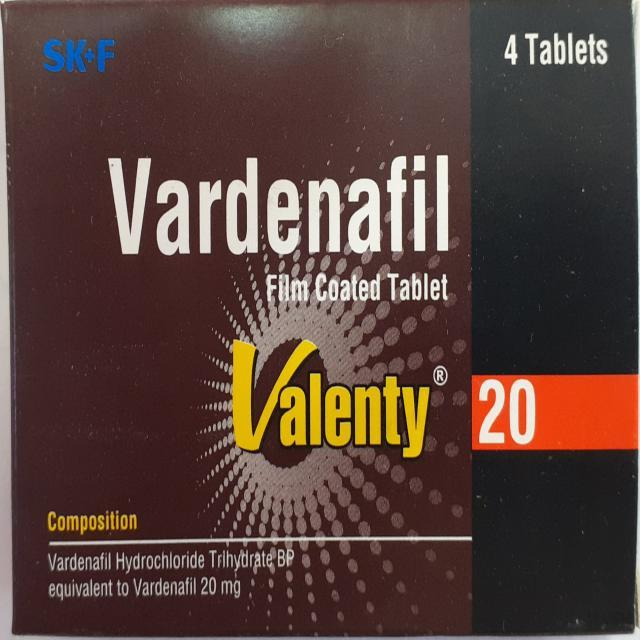drug-name: (212, 347, 438, 462)
